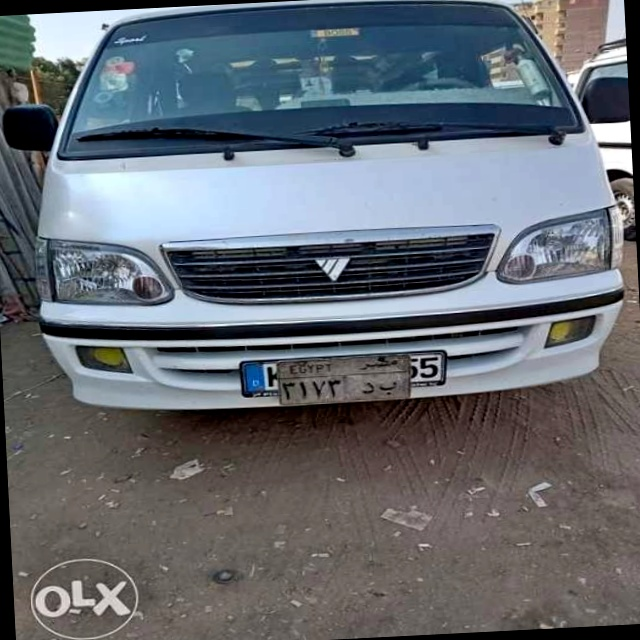License Plate: (276, 354, 413, 409)
